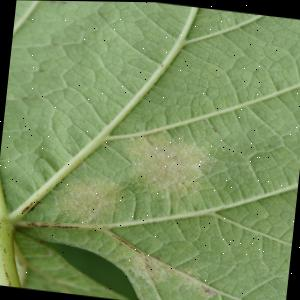Folha: (0, 0, 300, 300)
Fungo: (120, 132, 216, 201), (48, 169, 123, 225), (124, 247, 209, 294), (13, 214, 110, 238), (0, 217, 27, 287), (18, 198, 42, 216), (199, 285, 216, 298), (38, 0, 66, 5), (209, 127, 216, 132)
